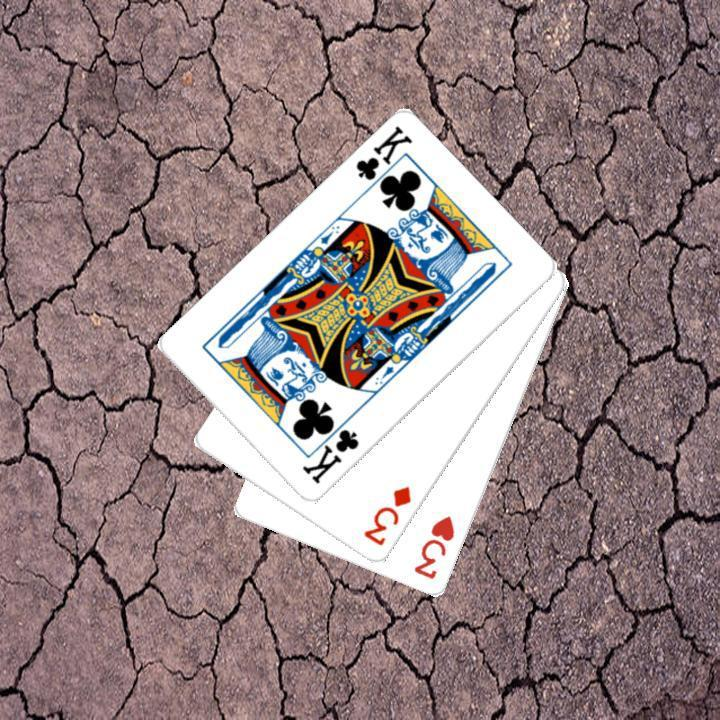3: (359, 481, 414, 549), (409, 512, 457, 582)
K: (297, 412, 361, 487), (351, 122, 414, 197)
